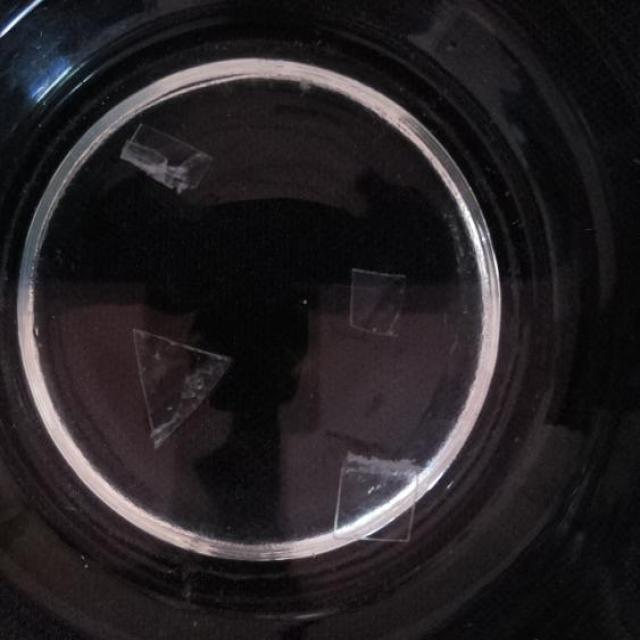fiber: (124, 324, 236, 461), (327, 450, 423, 550), (120, 118, 212, 198), (340, 270, 411, 344)
